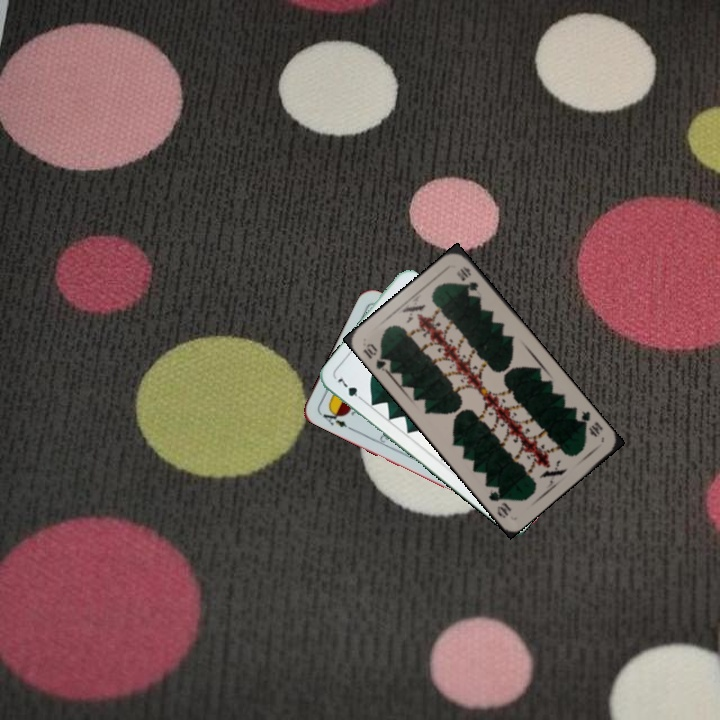EA: (316, 405, 354, 432)
G10: (359, 339, 394, 375), (575, 407, 605, 440)
G7: (333, 372, 367, 404)
